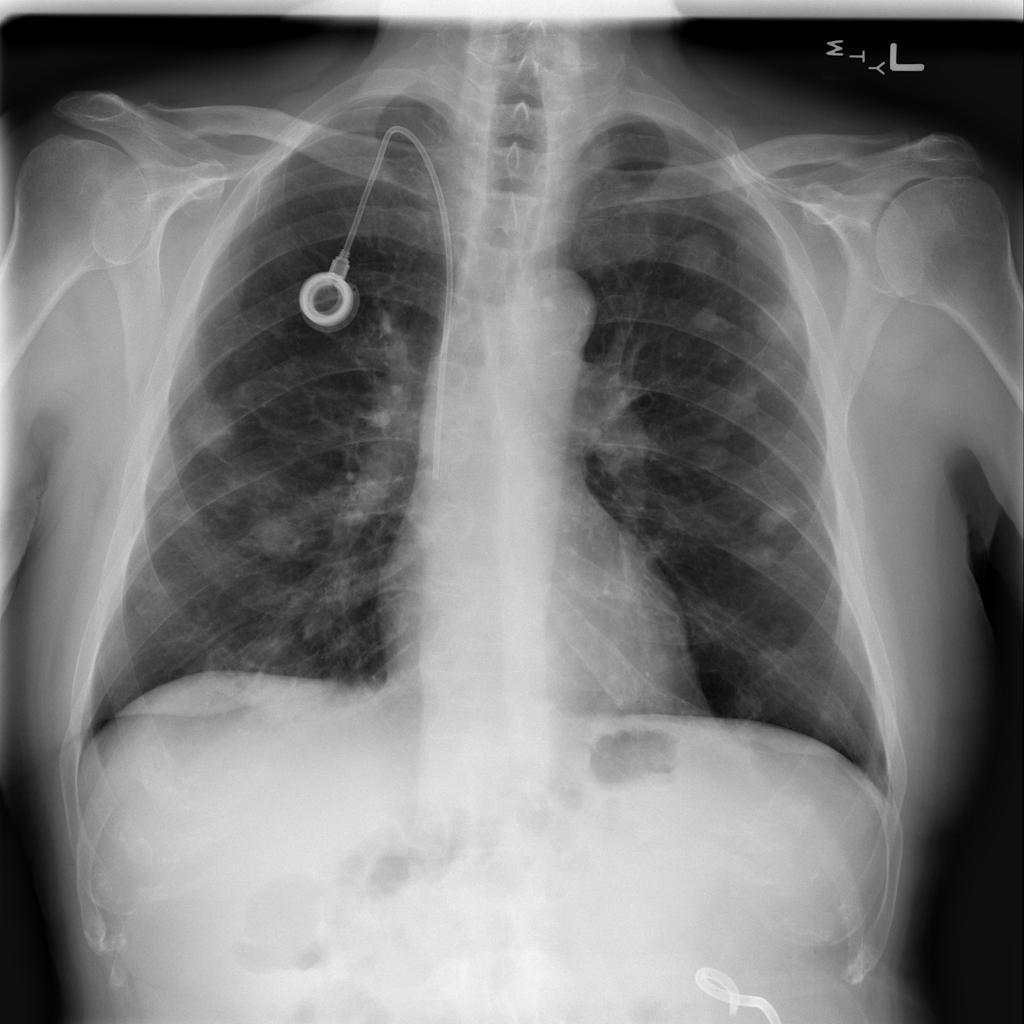nodule: (186, 614, 326, 723), (172, 386, 250, 463), (241, 502, 317, 572), (663, 219, 737, 290), (708, 672, 784, 740), (738, 485, 812, 552), (723, 520, 800, 582), (714, 362, 786, 428), (742, 287, 810, 356), (677, 427, 748, 493), (681, 291, 739, 343)
